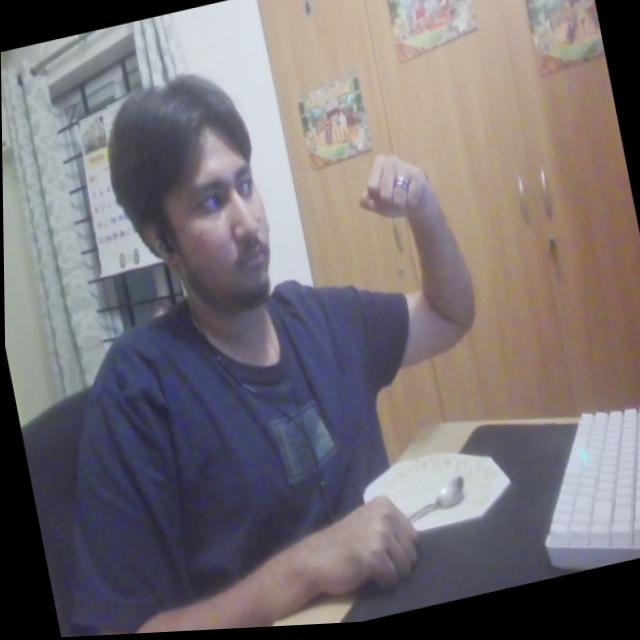yes: (350, 143, 442, 238)
